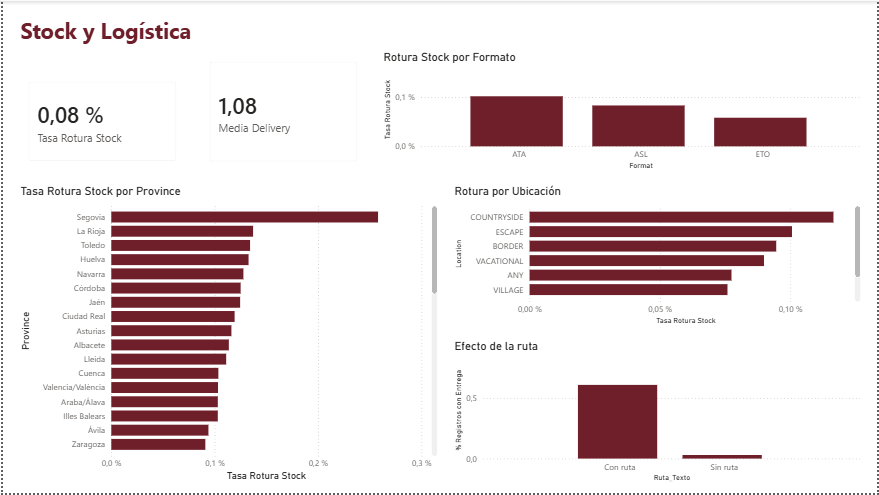

Layout of this report page (visuals, bound fields, positions):
{"tool":"powerbi","page":{"name":"Stock y Logistica","canvas":[1280,720],"ordinal":2},"visuals":[{"type":"cardVisual","fields":{"Data":["TablaMaestra5.Tasa Rotura Stock"]},"box":[20,72,250,180],"z":0},{"type":"barChart","fields":{"Category":["TablaMaestra5.Province"],"Y":["TablaMaestra5.Tasa Rotura Stock"]},"box":[20,268,620,440],"z":1000},{"type":"cardVisual","fields":{"Data":["TablaMaestra5.Media Delivery"]},"box":[286,72,250,180],"z":2000},{"type":"columnChart","title":"Rotura Stock por Formato","fields":{"Category":["TablaMaestra5.Format"],"Y":["TablaMaestra5.Tasa Rotura Stock"]},"box":[552,72,708,180],"z":3000},{"type":"textbox","box":[20,16,1240,44],"z":4000},{"type":"clusteredColumnChart","title":"Efecto de la ruta","fields":{"Category":["TablaMaestra5.Ruta_Texto"],"Y":["TablaMaestra5.% Registros con Entrega"]},"box":[656,494,604,214],"z":5000},{"type":"clusteredBarChart","title":"Rotura por Ubicación","fields":{"Category":["TablaMaestra5.Location"],"Y":["TablaMaestra5.Tasa Rotura Stock"]},"box":[656,268,604,210],"z":6000}]}

Visuals, with their boxes in screenshot pixels (x1, y1, x2, y2), scaled from the page's 1280x720 canvas onto the 879x495 screenshot:
cardVisual - TablaMaestra5.Tasa Rotura Stock: select_region(14, 50, 185, 173)
barChart - TablaMaestra5.Province x TablaMaestra5.Tasa Rotura Stock: select_region(14, 184, 440, 487)
cardVisual - TablaMaestra5.Media Delivery: select_region(196, 50, 368, 173)
"Rotura Stock por Formato" columnChart: select_region(379, 50, 865, 173)
textbox: select_region(14, 11, 865, 41)
"Efecto de la ruta" clusteredColumnChart: select_region(450, 340, 865, 487)
"Rotura por Ubicación" clusteredBarChart: select_region(450, 184, 865, 329)
